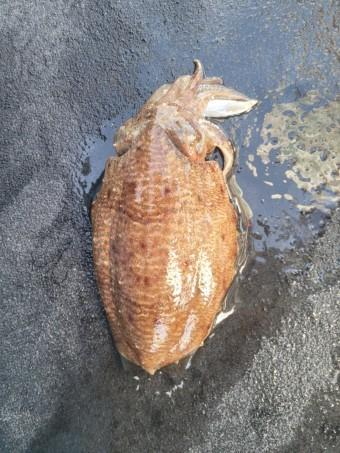Cephalopod: (92, 60, 255, 373)
